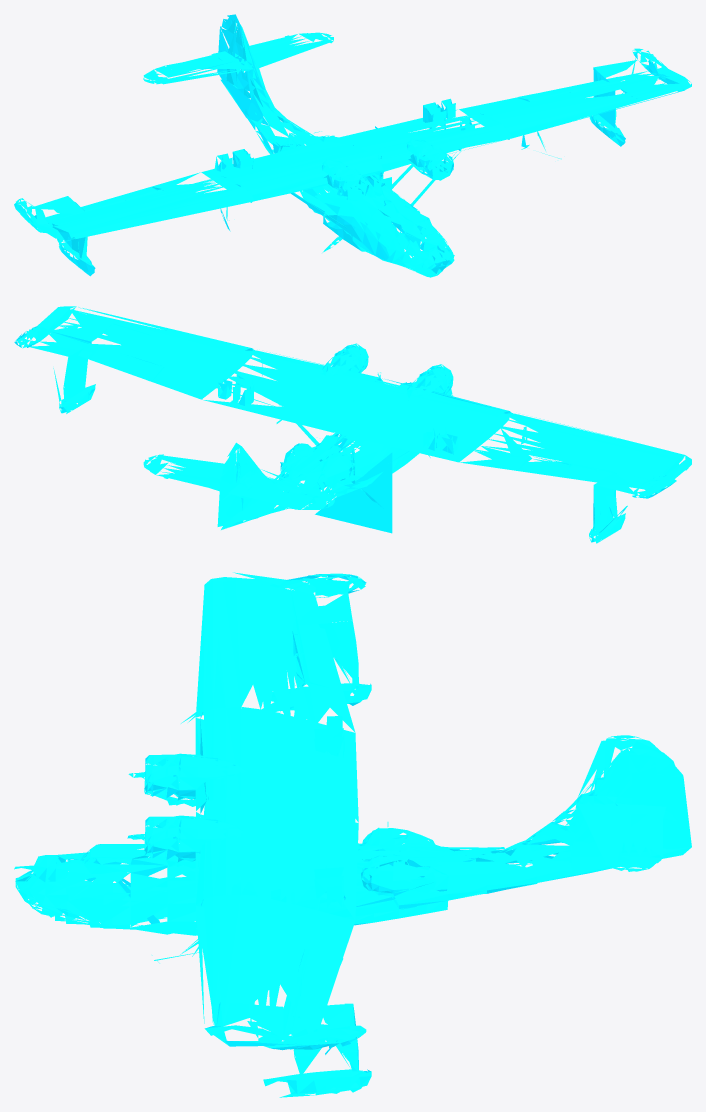
Rendered from PZAD906.glb.
The picture shows the model from 3 angles, top to bottom: view 1: azimuth 30°, elevation 25°; view 2: azimuth 150°, elevation 25°; view 3: azimuth 270°, elevation 25°; orthographic projection. The views are drawn at different scales.
Parts seen in each view (by area): view 1: misc; view 2: misc; view 3: misc.
Boxes of the visible parts, x1=… form: misc: x1=14, y1=14, x2=691, y2=277; misc: x1=14, y1=306, x2=691, y2=543; misc: x1=14, y1=572, x2=691, y2=1097.
Bounding box in the file's own units: 2.11 × 0.5298 × 1.3.
